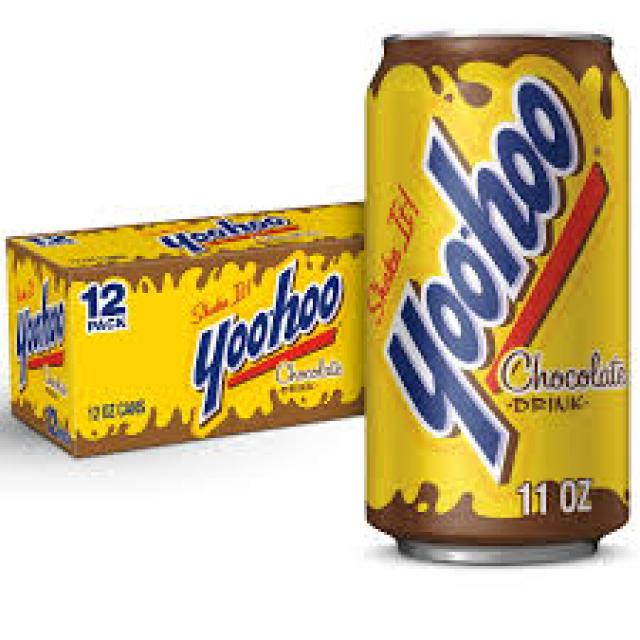Cans: (352, 22, 640, 574)
